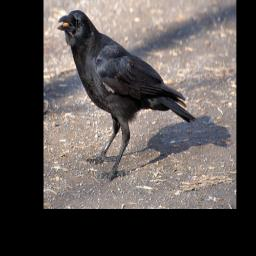Crow: (57, 8, 196, 182)
